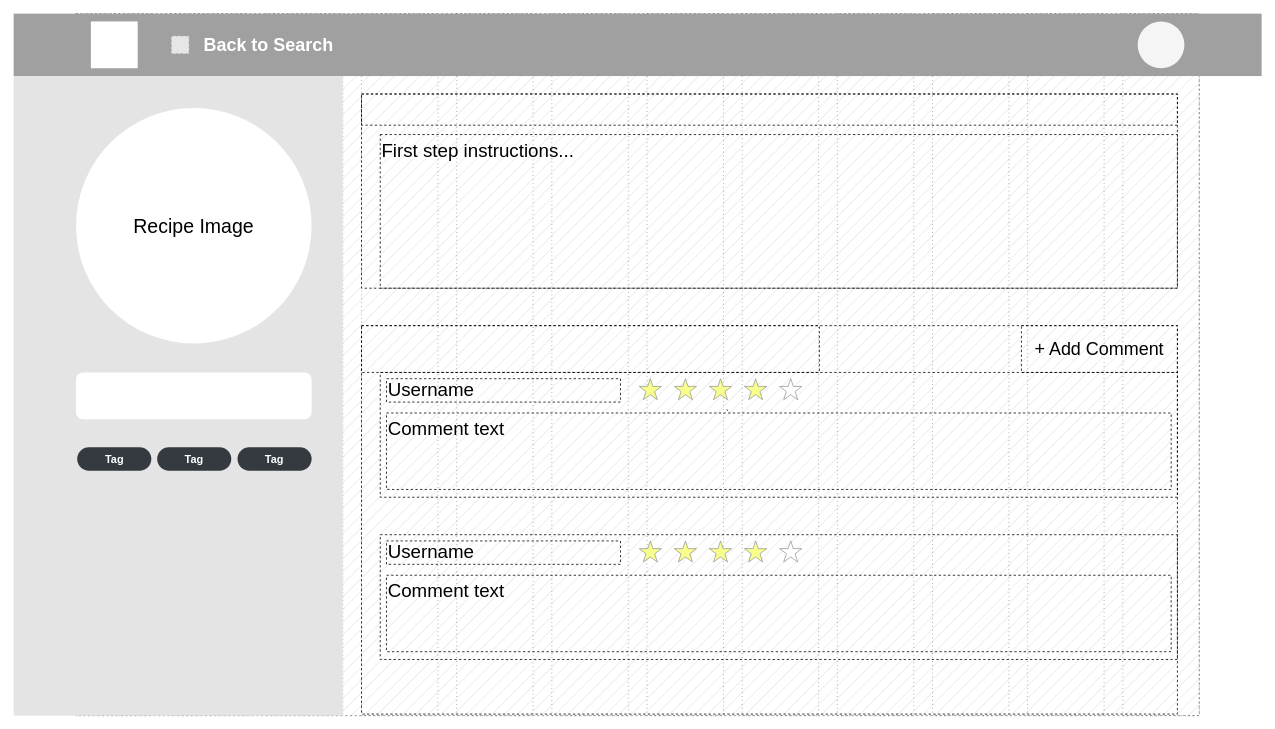
Image size: 1275x729. Some labels were removed from this diagram. Grey dashed boxes stand in for pictures. Here are the shapes that lost their labels. From the top down, the centre of each, then its label:
At [113,44]: "Icon".
At [637,44]: "Welcome, Username".
At [1160,44]: "User Icon".
At [769,109]: "N. Last Recipe Step Title".
At [590,348]: "Comments".
At [193,395]: "Cook Time".
